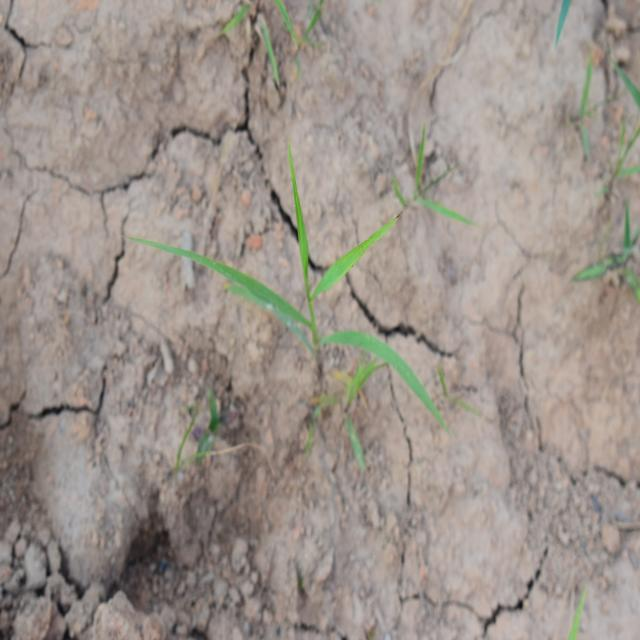green_foxtail: (184, 166, 398, 460)
